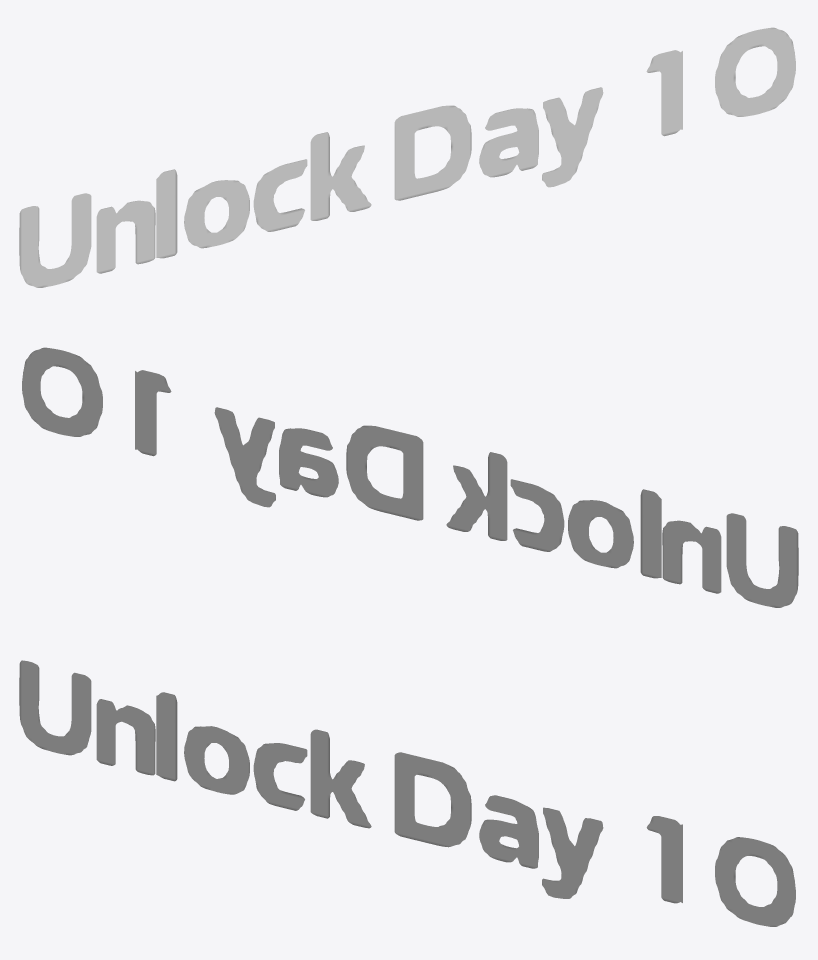
The model's file is Mesh_74_4d983f39__Watford_DB-22_ed023daf_9c9708.obj.
The picture shows the model from 3 angles, top to bottom: view 1: azimuth 30°, elevation 25°; view 2: azimuth 150°, elevation 25°; view 3: azimuth 330°, elevation 25°; orthographic projection.
Bounding box in the file's own units: 75 × 11 × 0.
1 material, 1 textured.
